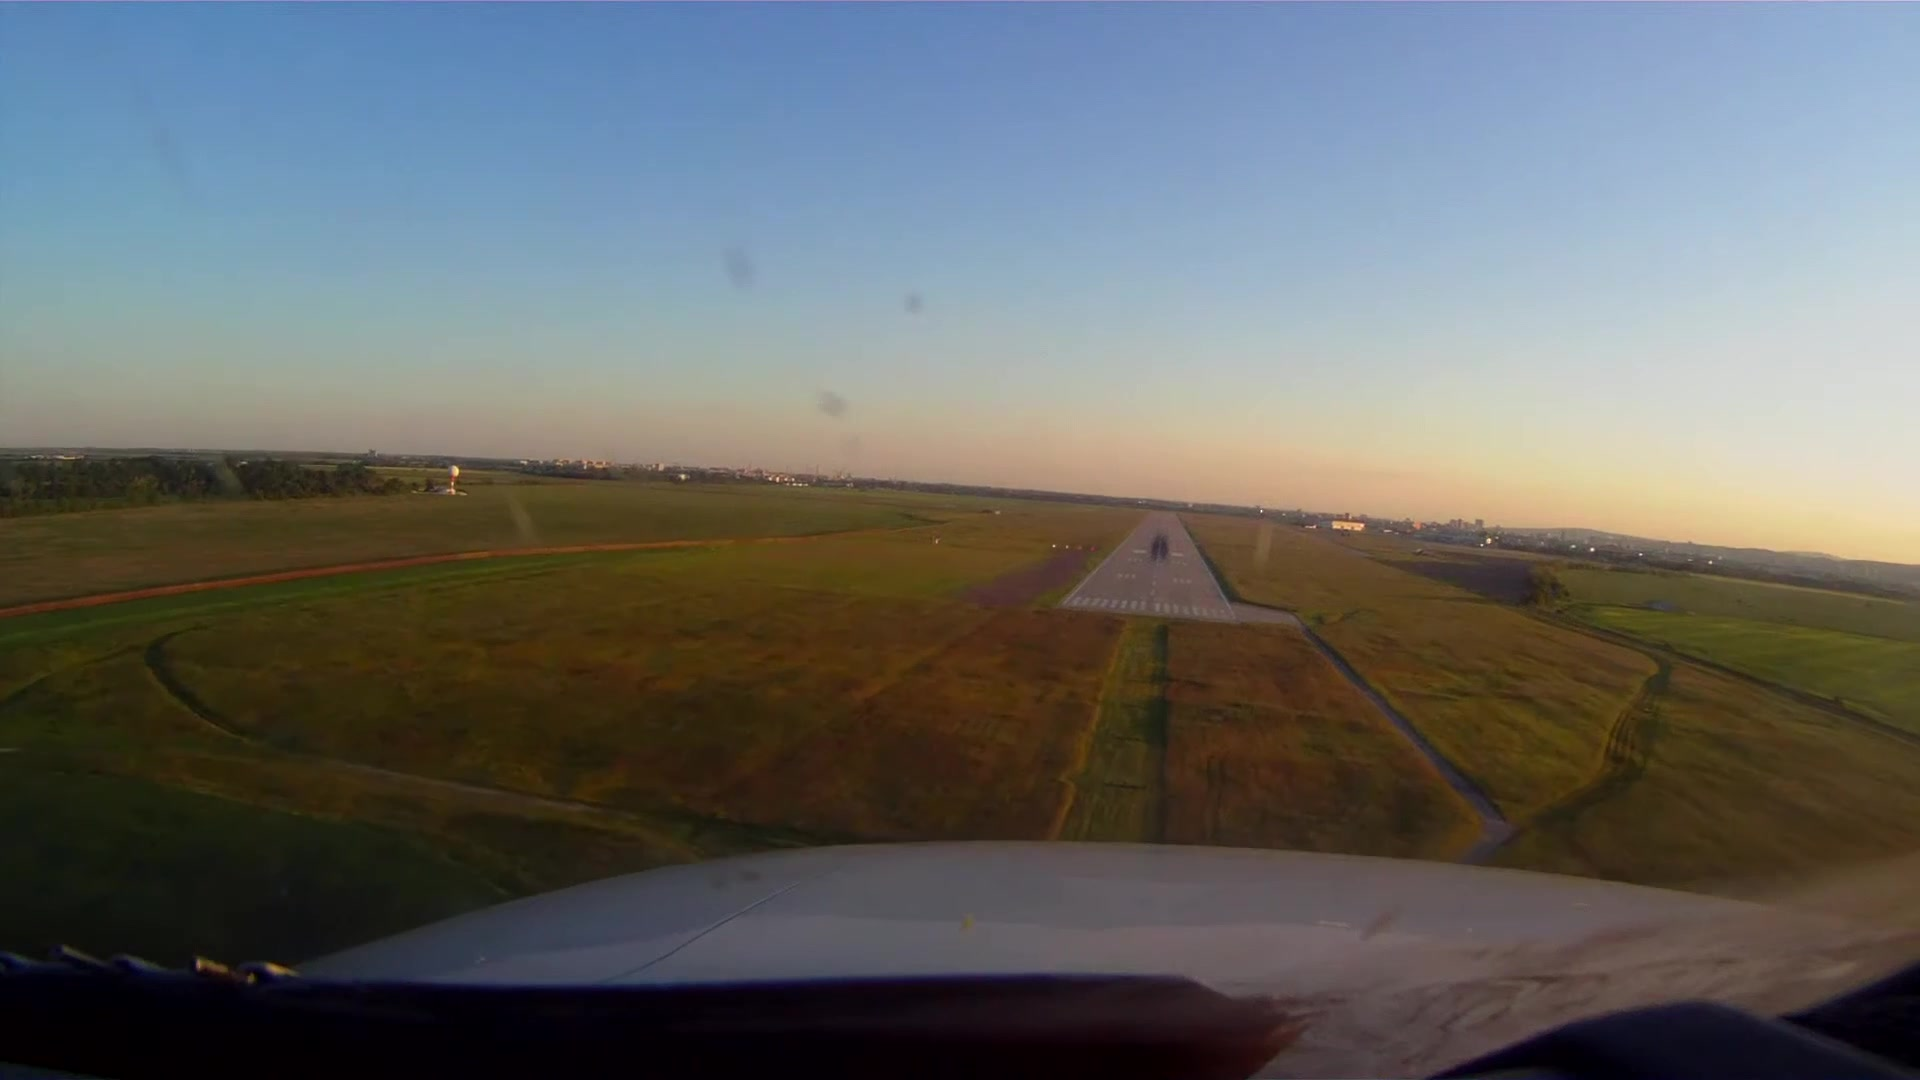entrance: (1069, 595, 1224, 618)
runway: (1058, 498, 1240, 624)
